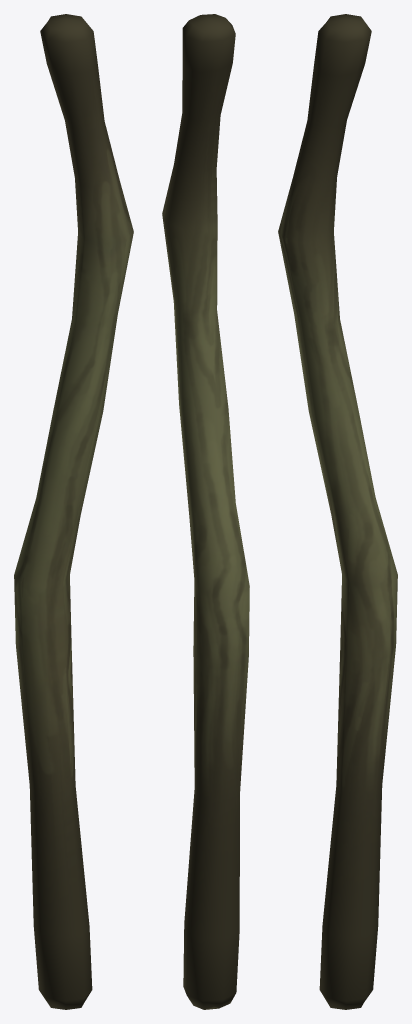
File: support_bend.fbx
3 views of the same model, side by side, from view 1: azimuth 90°, elevation 25°; view 2: azimuth 210°, elevation 25°; view 3: azimuth 270°, elevation 25° (orthographic).
Parts seen in each view (by area): view 1: Cube; view 2: Cube; view 3: Cube.
Boxes of the visible parts, <box> form: Cube: <box>14,14,133,1009</box>; Cube: <box>162,14,249,1009</box>; Cube: <box>278,14,397,1009</box>.
Bounding box in the file's own units: 74.16 × 34.78 × 672.
1 material, 1 textured.
